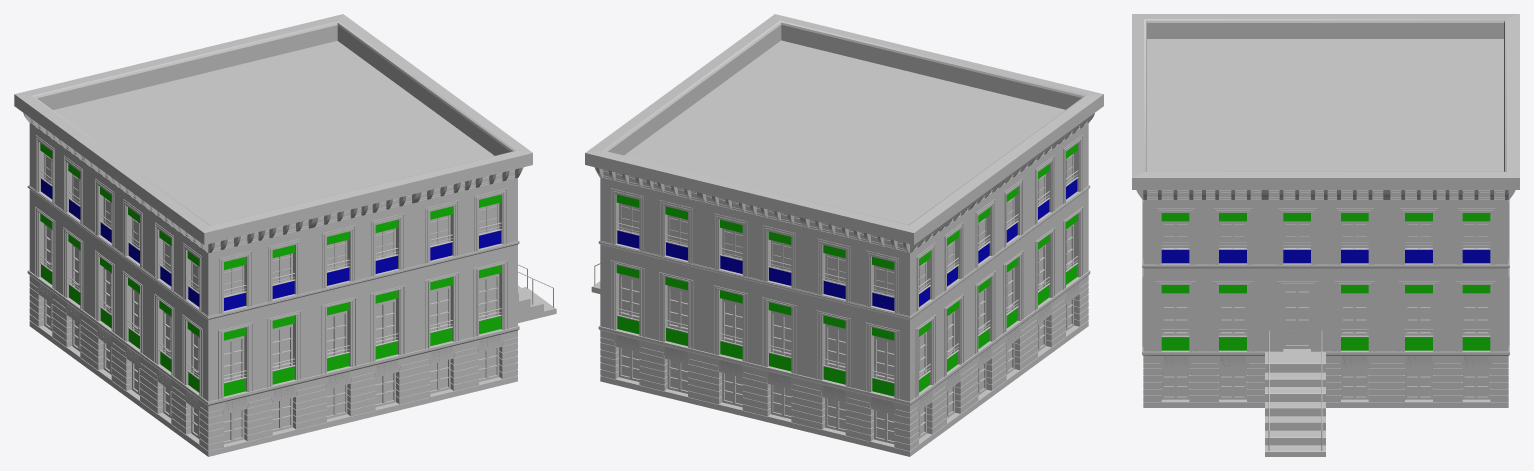
Rendered from sketchfab1.fbx.
The picture shows the model from 3 angles, left to right: view 1: azimuth 30°, elevation 25°; view 2: azimuth 150°, elevation 25°; view 3: azimuth 270°, elevation 25°; orthographic projection. The views are drawn at different scales.
Visible parts, largest first — view 1: TexturesCom_BuildingsNeoclassical0032_M.009; view 2: TexturesCom_BuildingsNeoclassical0032_M.009; view 3: TexturesCom_BuildingsNeoclassical0032_M.009.
Part boxes in pixels (x1,y1,x2,y2): TexturesCom_BuildingsNeoclassical0032_M.009: (14,14,556,456); TexturesCom_BuildingsNeoclassical0032_M.009: (585,14,1103,456); TexturesCom_BuildingsNeoclassical0032_M.009: (1132,14,1519,456).
Bounding box in the file's own units: 1238 × 654 × 975.
